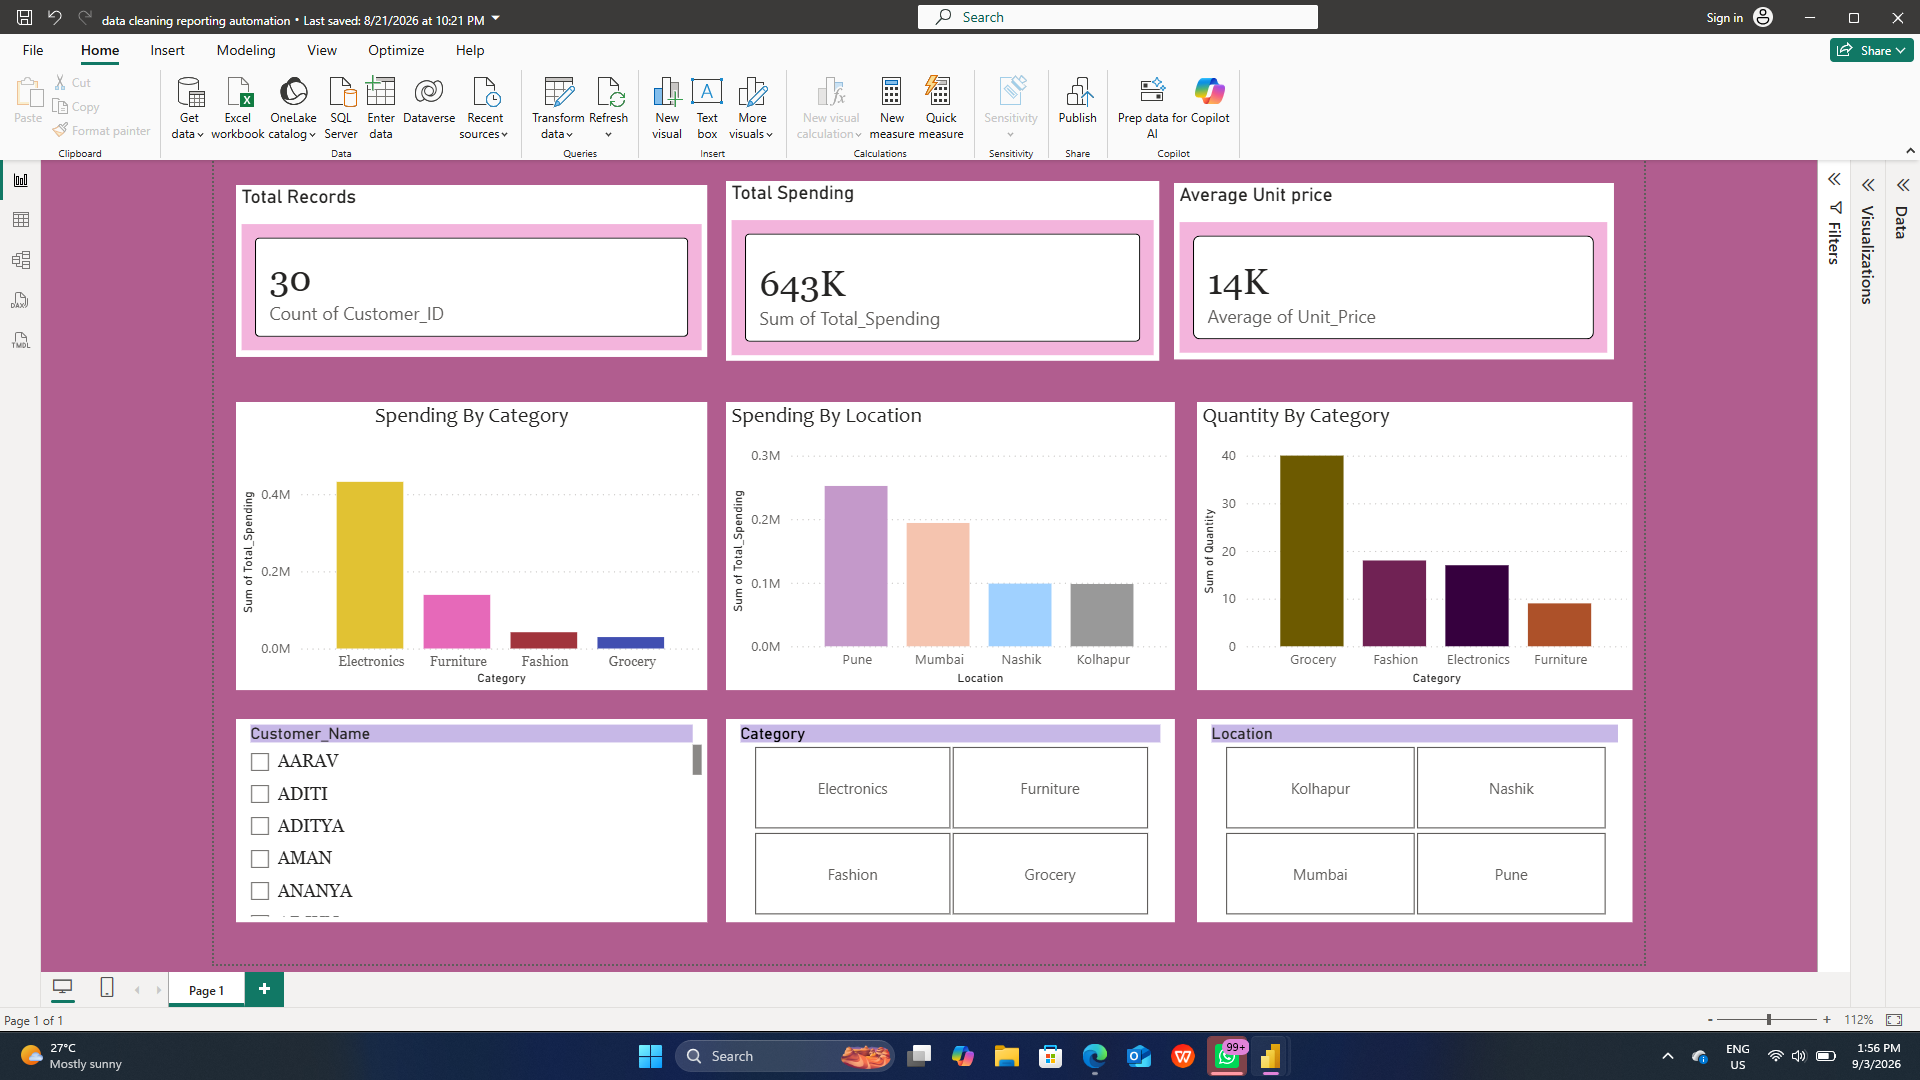

Layout of this report page (visuals, bound fields, positions):
{"tool":"powerbi","page":{"name":"Page 1","canvas":[1280,720],"ordinal":0},"visuals":[{"type":"cardVisual","title":"Total Records","fields":{"Data":["CountNonNull(Sales_Data.Customer_ID)"]},"box":[19.5,22.4,422.1,153.7],"z":0},{"type":"cardVisual","title":"Total Spending","fields":{"Data":["Sum(Sales_Data.Total_Spending)"]},"box":[458.1,18.5,388.1,161.5],"z":1},{"type":"cardVisual","title":"Average Unit price","fields":{"Data":["Avg(Sales_Data.Unit_Price)"]},"box":[859.8,20.4,393.9,157.6],"z":2},{"type":"columnChart","title":"Spending By Category","fields":{"Category":["Sales_Data.Category"],"Y":["Sum(Sales_Data.Total_Spending)"]},"box":[19.5,216.9,422.1,257.8],"z":3},{"type":"columnChart","title":"Spending By Location","fields":{"Category":["Sales_Data.Location"],"Y":["Sum(Sales_Data.Total_Spending)"]},"box":[458.1,216.9,401.7,257.8],"z":4},{"type":"columnChart","title":"Quantity By Category","fields":{"Category":["Sales_Data.Category"],"Y":["Sum(Sales_Data.Quantity)"]},"box":[880.2,216.9,390,257.8],"z":5},{"type":"slicer","fields":{"Values":["Sales_Data.Category"]},"box":[458.1,500.9,401.7,181.9],"z":6},{"type":"slicer","fields":{"Values":["Sales_Data.Customer_Name"]},"box":[19.5,500.9,422.1,181.9],"z":7},{"type":"slicer","fields":{"Values":["Sales_Data.Location"]},"box":[880.2,500.9,390,181.9],"z":8}]}

Visuals, with their boxes on the page's 1280x720 design canvas (x1, y1, x2, y2). These are canvas units, not pixel positions in the 1920x1080 screenshot, which may show the page scaled, cropped or inside an application window:
"Total Records" cardVisual: <bbox>20, 22, 442, 176</bbox>
"Total Spending" cardVisual: <bbox>458, 18, 846, 180</bbox>
"Average Unit price" cardVisual: <bbox>860, 20, 1254, 178</bbox>
"Spending By Category" columnChart: <bbox>20, 217, 442, 475</bbox>
"Spending By Location" columnChart: <bbox>458, 217, 860, 475</bbox>
"Quantity By Category" columnChart: <bbox>880, 217, 1270, 475</bbox>
slicer - Sales_Data.Category: <bbox>458, 501, 860, 683</bbox>
slicer - Sales_Data.Customer_Name: <bbox>20, 501, 442, 683</bbox>
slicer - Sales_Data.Location: <bbox>880, 501, 1270, 683</bbox>
